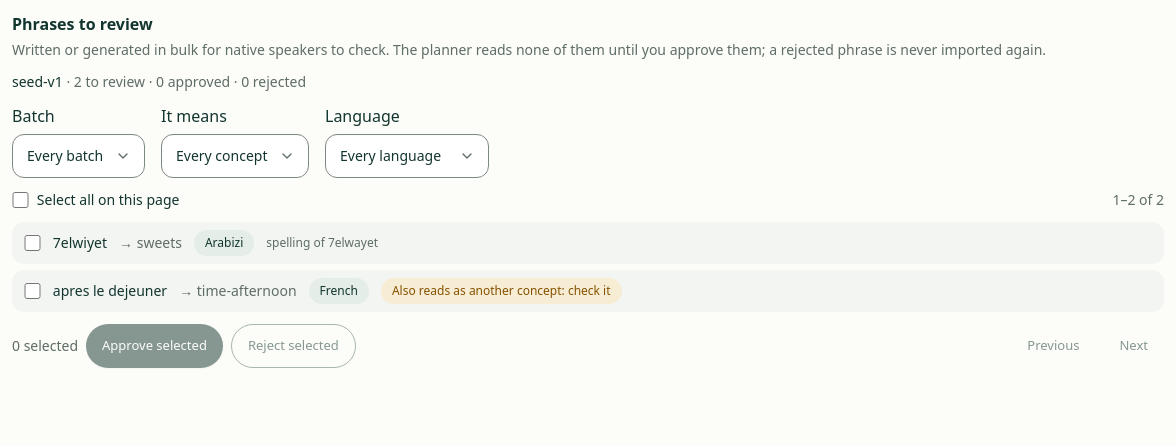
Test: phrase review and releases › approves a selection of candidates and flags clashes
Expected: the list item "7elwiyet" shows "spelling of 7elwayet", [266,234,378,251]
Expected: the list item "apres le dejeuner" shows "Also reads as another concept", [392,282,610,299]
Click the checkbox labelled "7elwiyet → sweets Arabizi spelling of 7elwayet": {"x": 32, "y": 243} [24,235,41,251]
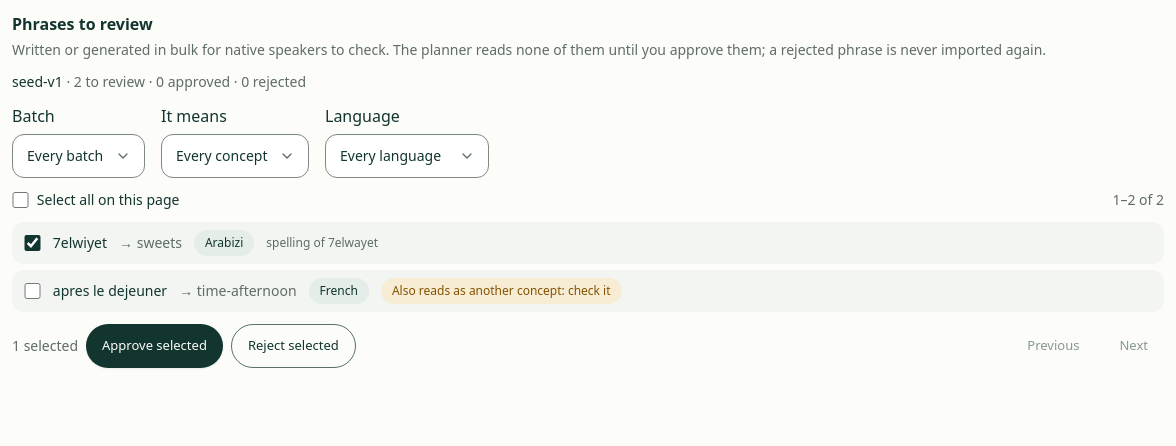
Click the button "Approve selected": {"x": 154, "y": 346} [86,324,223,368]
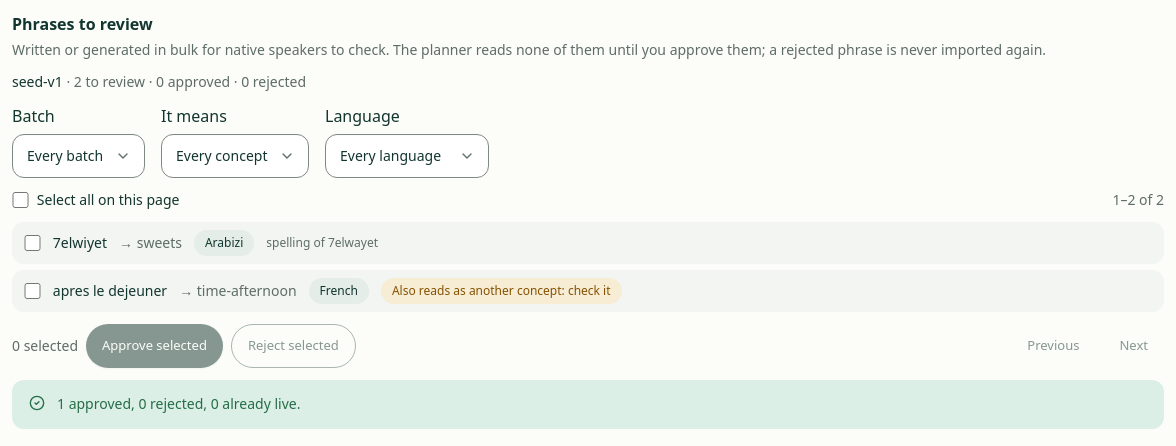
Expected: the message shows "1 approved", [57,394,300,413]
